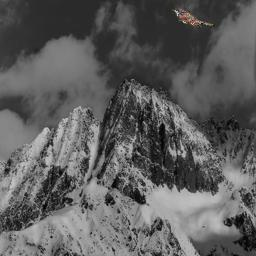Cuckoo: (171, 7, 215, 28)
